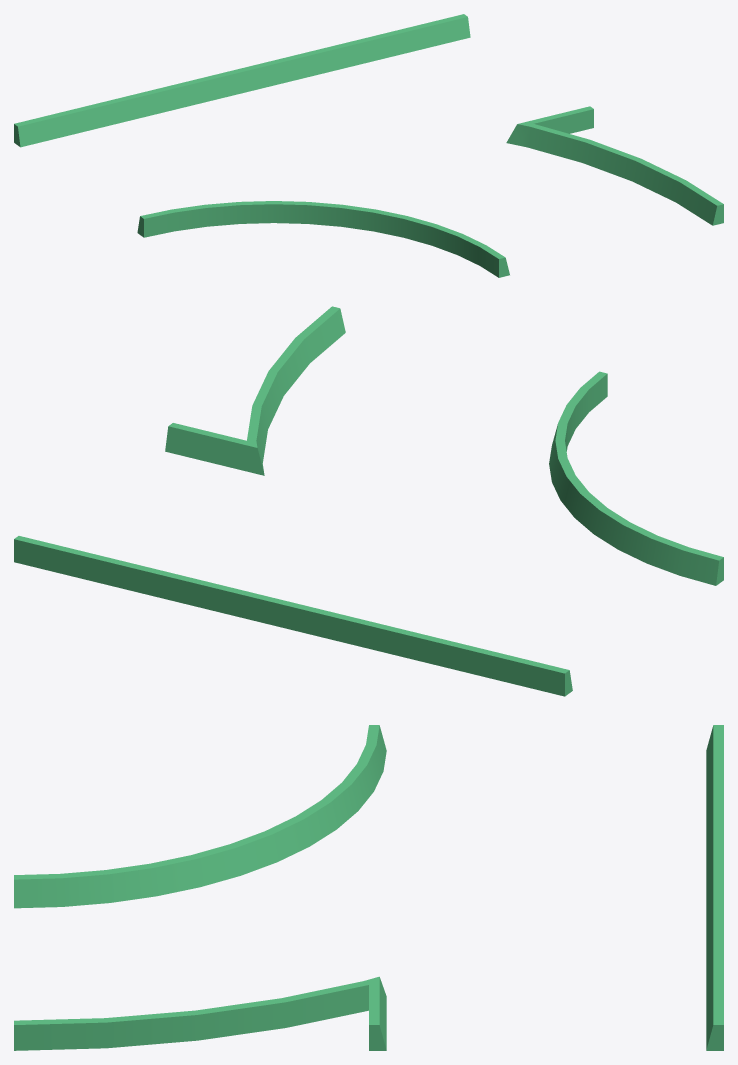
The model's file is road_curve_intersection_barrier.glb.
3 renders of one model, top to bottom at view 1: azimuth 30°, elevation 25°; view 2: azimuth 150°, elevation 25°; view 3: azimuth 270°, elevation 25°, orthographic. The views are drawn at different scales.
Parts seen in each view (by area): view 1: road-curve-intersection-barrier; view 2: road-curve-intersection-barrier; view 3: road-curve-intersection-barrier.
Boxes of the visible parts, left/top/right/bottom form: road-curve-intersection-barrier: left=14, top=14, right=723, bottom=277; road-curve-intersection-barrier: left=14, top=306, right=723, bottom=696; road-curve-intersection-barrier: left=14, top=725, right=723, bottom=1050.
Bounding box in the file's own units: 2 × 0.08 × 2.
Materials: 1 (1 with a texture image).
